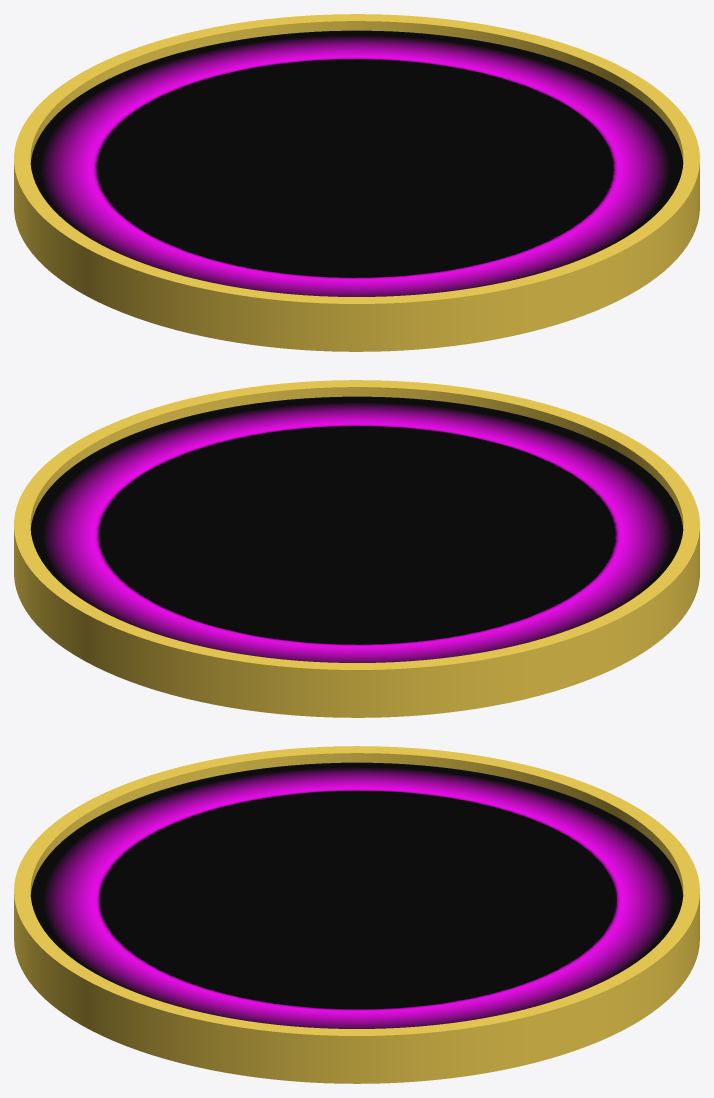
File: coin.glb
3 views of the same model, one above another, from view 1: azimuth 30°, elevation 25°; view 2: azimuth 150°, elevation 25°; view 3: azimuth 270°, elevation 25° (orthographic).
Parts seen in each view (by area): view 1: Cylinder; view 2: Cylinder; view 3: Cylinder.
Part boxes in pixels (<box>): Cylinder: <box>14,14,699,351</box>; Cylinder: <box>14,380,699,717</box>; Cylinder: <box>14,746,699,1083</box>.
Bounding box in the file's own units: 5.2 × 0.4 × 5.2.
3 materials, 2 textured.
